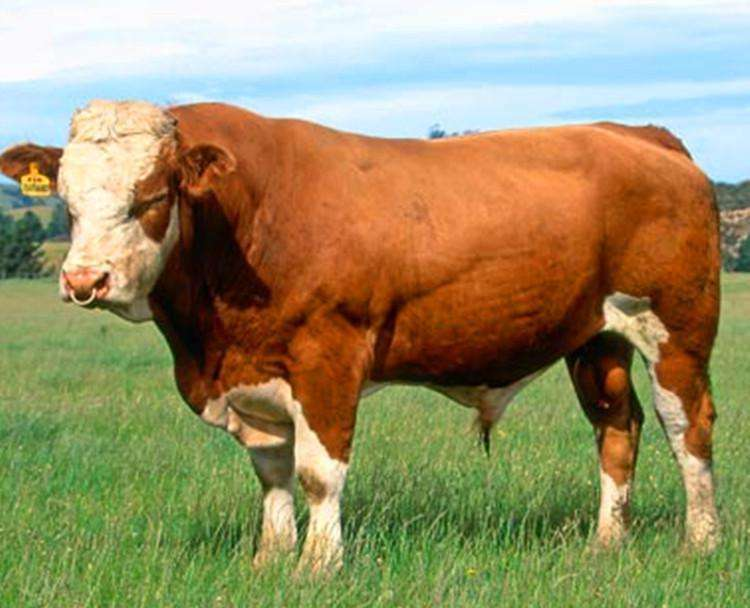background: (24, 98, 732, 575)
